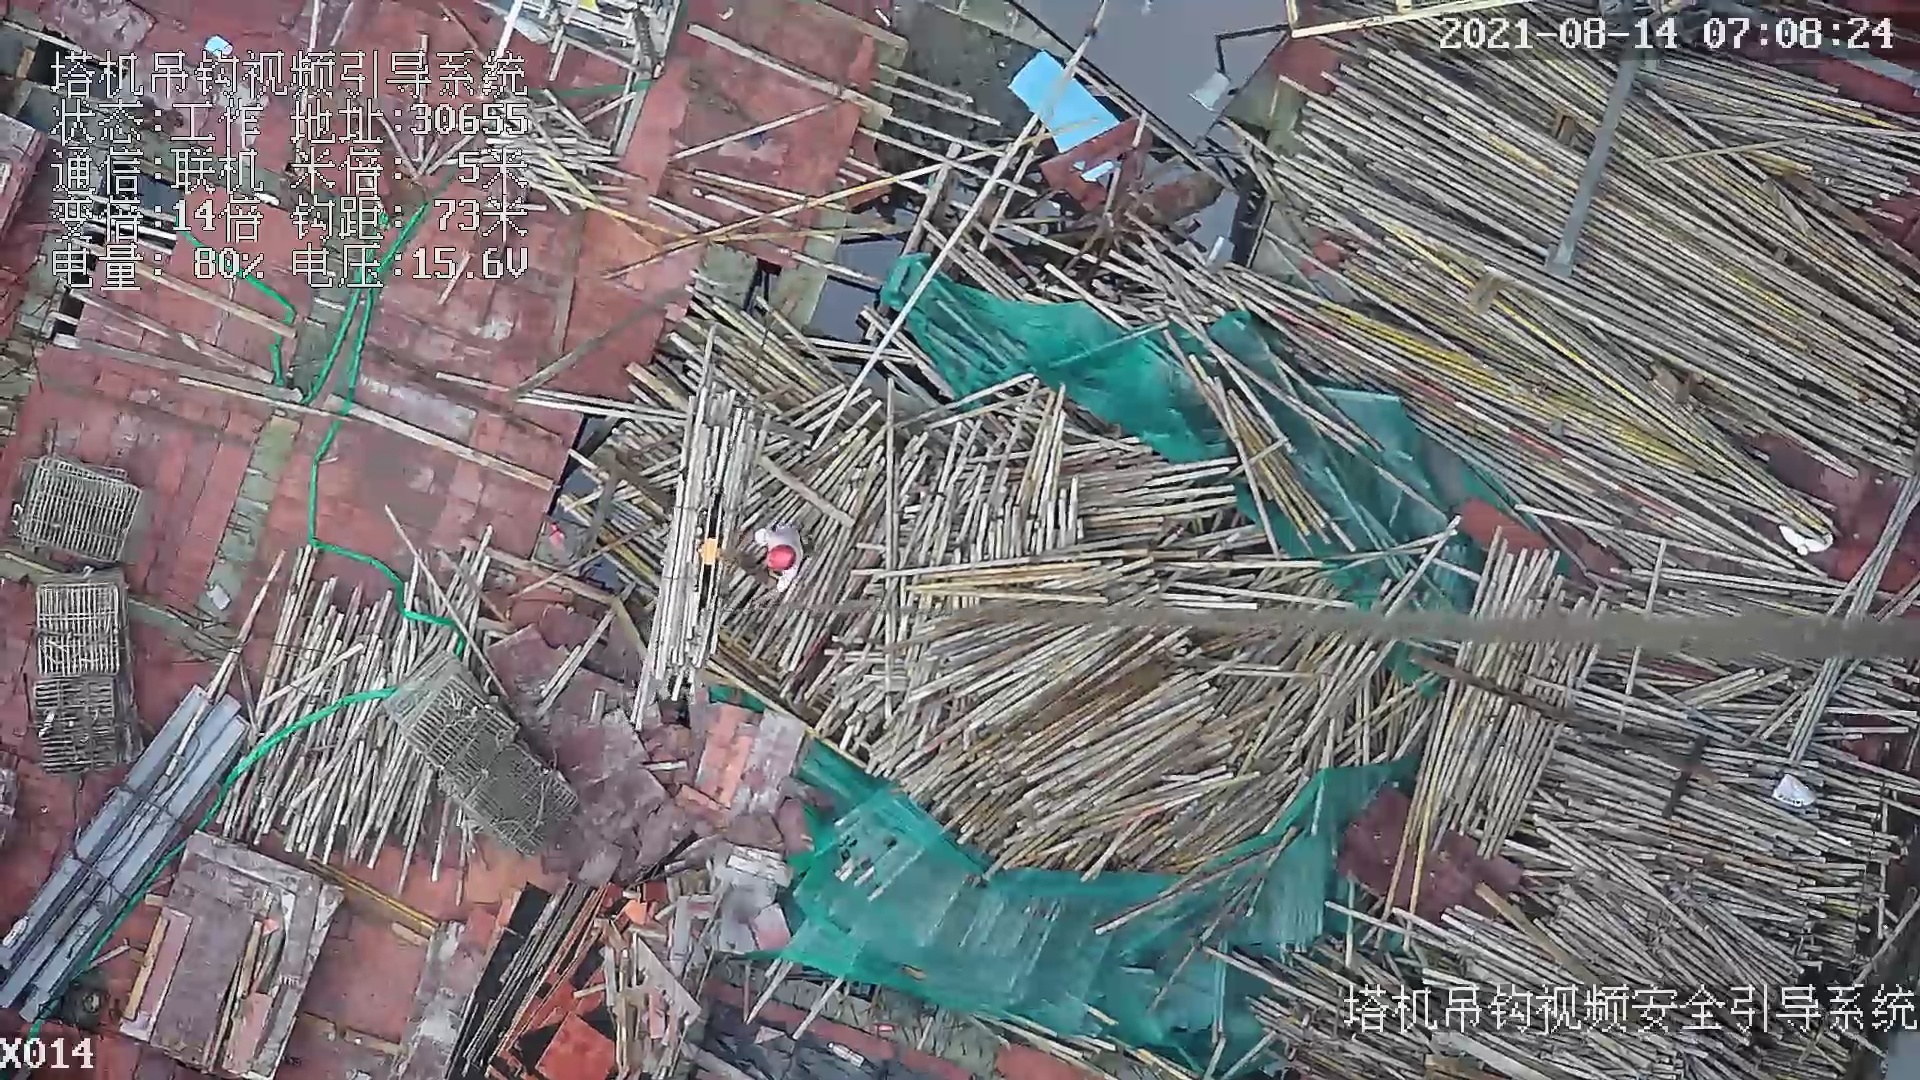helmet: (767, 545, 797, 572)
hook: (690, 489, 731, 617)
person: (759, 519, 808, 573)
